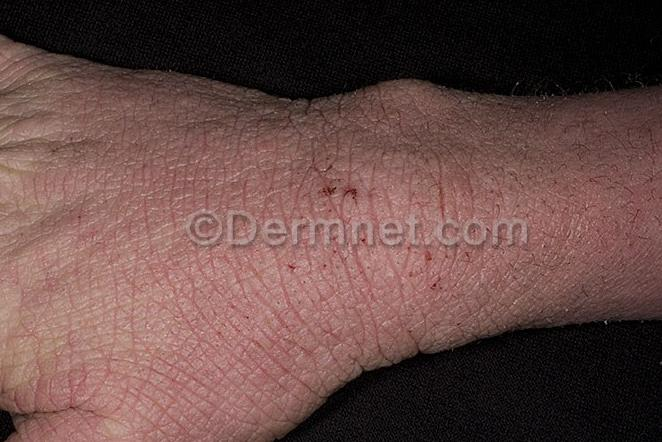Eritema 2: (0, 60, 662, 442)
exudacion 1: (282, 156, 442, 300)
liquenificacion 3: (0, 56, 653, 442)
